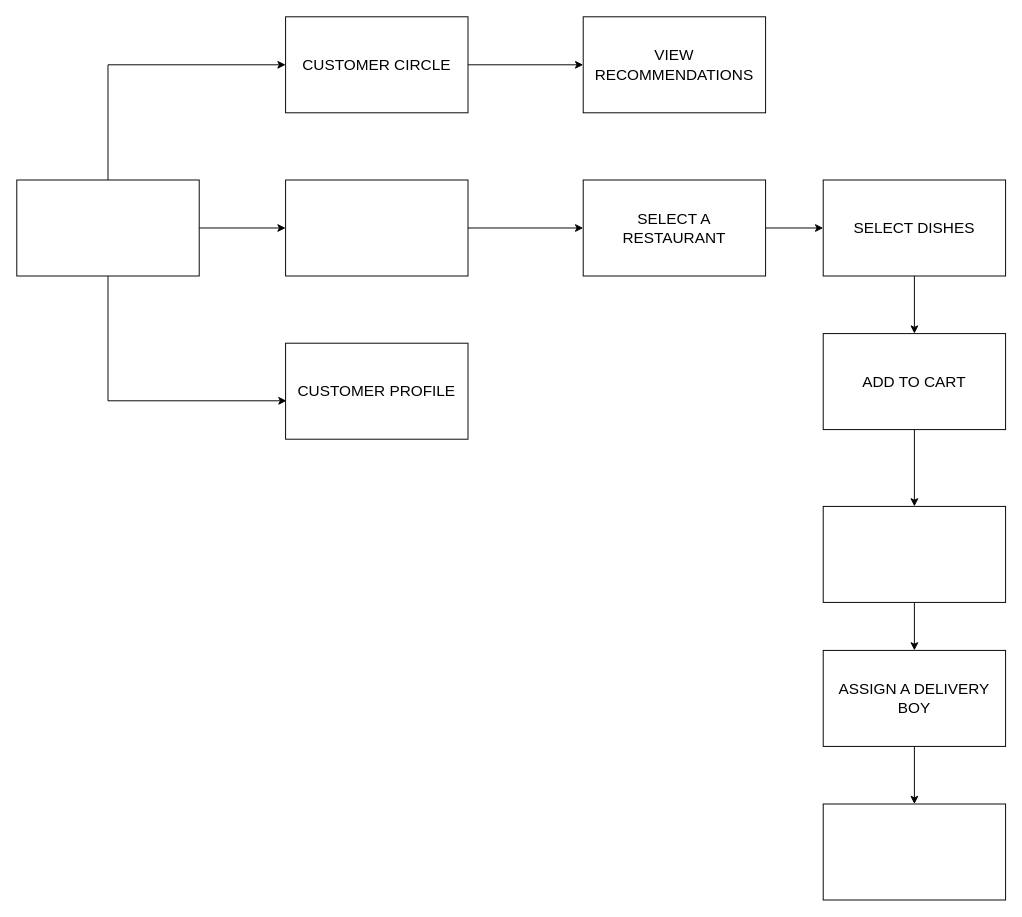
Image size: 1022x917. Some labels were removed from this diagram. The centre of each missing label's shape, as x and y in pixels:
"ALL RESTAURANTS IN A LOCATION" goes at point (376, 227).
"LOGIN / SIGN IN using contact number, location" goes at point (107, 227).
"PLACE ORDER" goes at point (914, 851).
"VIEW CART" goes at point (914, 553).
